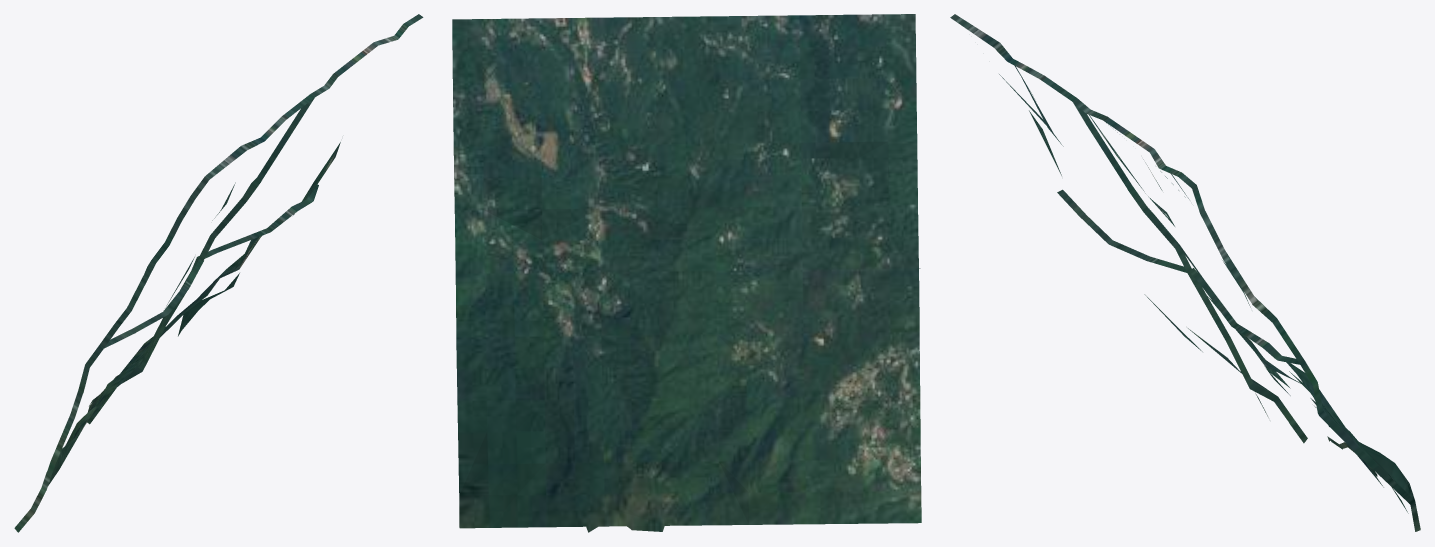
3 renders of one model, left to right at view 1: azimuth 30°, elevation 25°; view 2: azimuth 150°, elevation 25°; view 3: azimuth 270°, elevation 25°, orthographic. The views are drawn at different scales.
Bounding box in the file's own units: 4962 × 4420 × 4461.
Materials: 1 (1 with a texture image).
